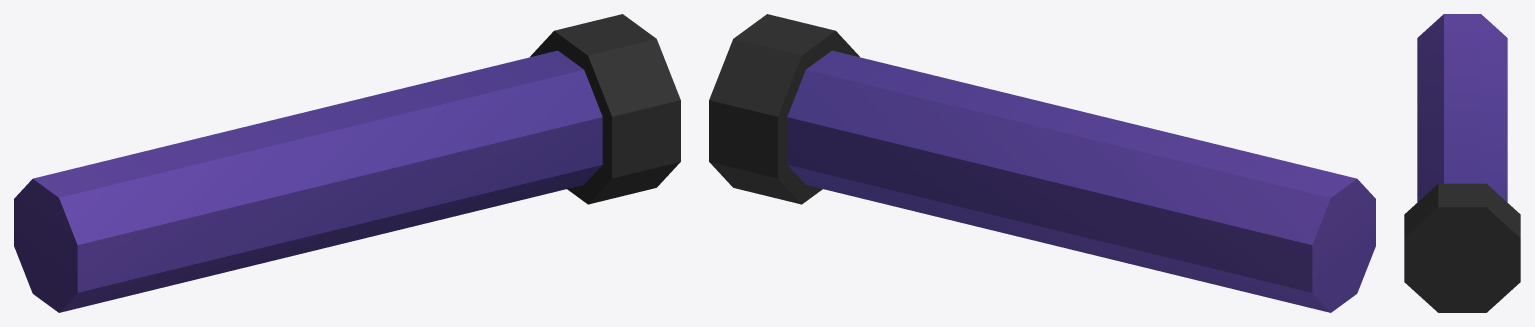
Rendered from SMG5_05_2.fbx.
The picture shows the model from 3 angles, left to right: view 1: azimuth 30°, elevation 25°; view 2: azimuth 150°, elevation 25°; view 3: azimuth 270°, elevation 25°; orthographic projection. The views are drawn at different scales.
Visible parts, largest first — view 1: SMG5_05_2; view 2: SMG5_05_2; view 3: SMG5_05_2.
Part boxes in pixels (<box>): SMG5_05_2: <box>14,14,680,312</box>; SMG5_05_2: <box>709,14,1375,312</box>; SMG5_05_2: <box>1404,14,1520,312</box>.
Bounding box in the file's own units: 0.3244 × 0.0777 × 0.0777.
